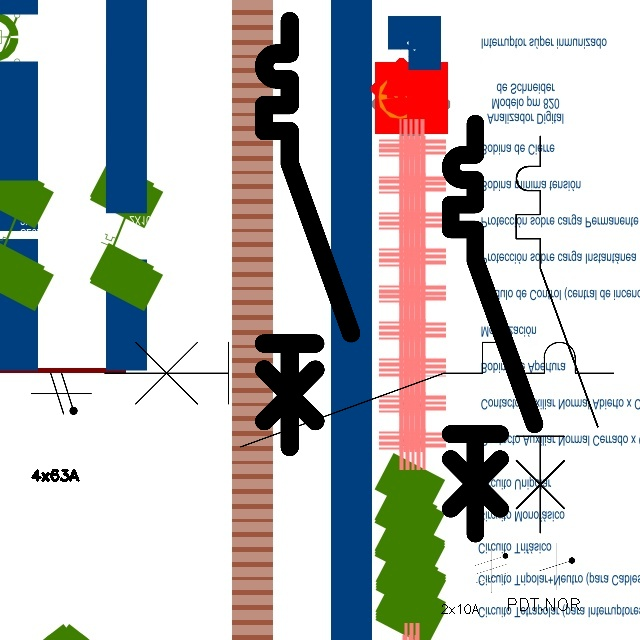interruptor_termomagnetico: (91, 329, 626, 460), (253, 10, 362, 457), (440, 113, 545, 544), (506, 126, 608, 543)
